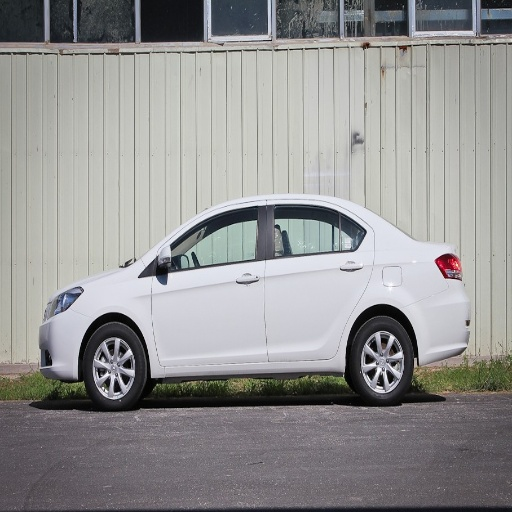back_left_door: (268, 203, 373, 358)
front_left_door: (152, 204, 267, 367)
